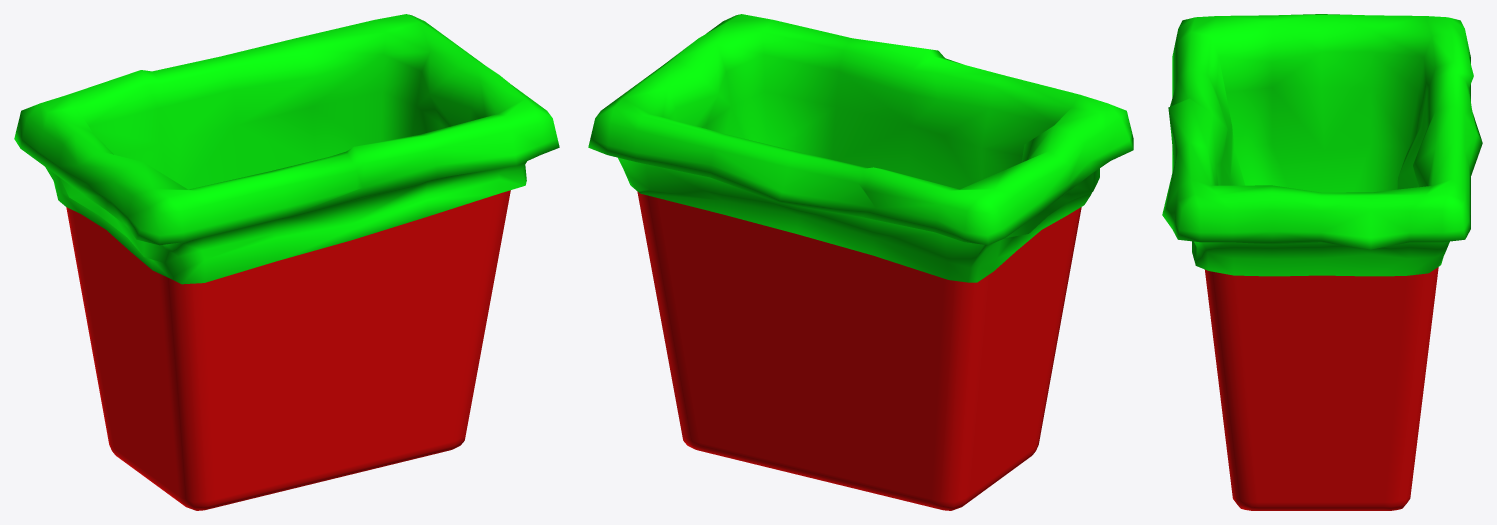
Rendered from Trashcan_Small.FBX.
3 renders of one model, left to right at view 1: azimuth 30°, elevation 25°; view 2: azimuth 150°, elevation 25°; view 3: azimuth 270°, elevation 25°, orthographic.
Visible parts, largest first — view 1: Small Trashcan; view 2: Small Trashcan; view 3: Small Trashcan.
Boxes of the visible parts, <box> form: Small Trashcan: <box>14,14,559,510</box>; Small Trashcan: <box>588,14,1133,510</box>; Small Trashcan: <box>1162,14,1482,510</box>.
Bounding box in the file's own units: 25.98 × 20.29 × 16.88.
